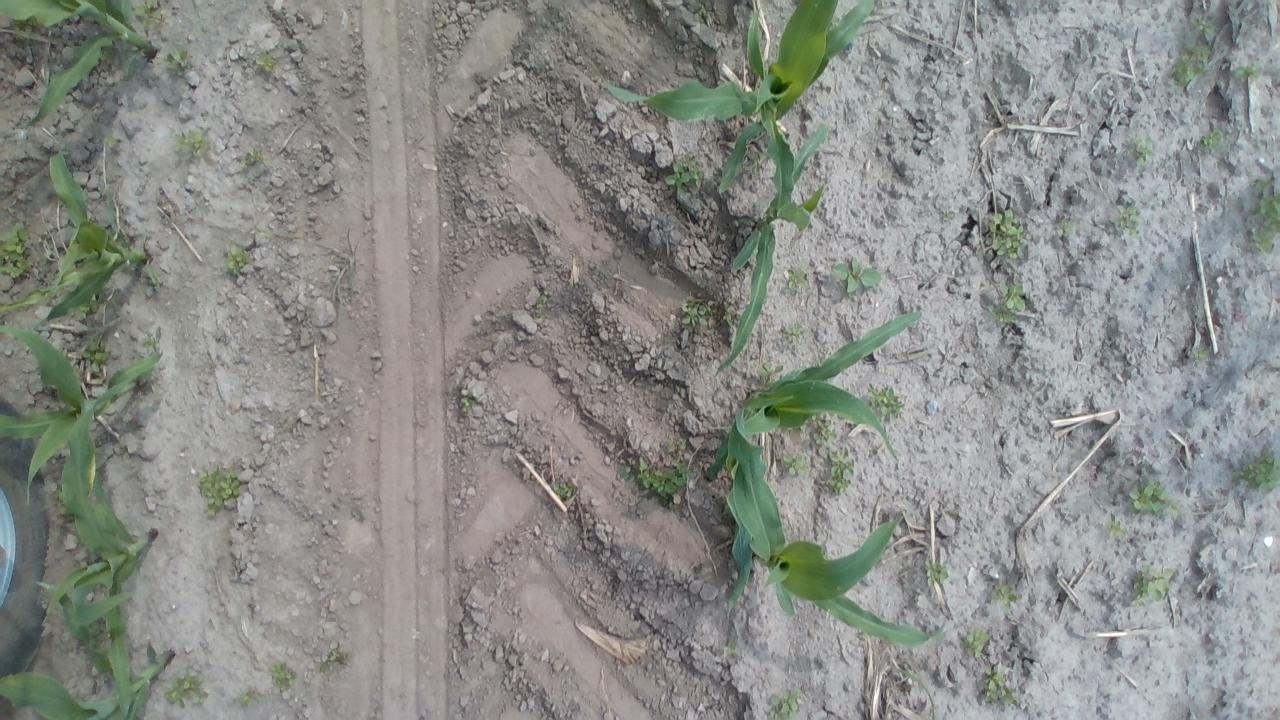Maize: (702, 312, 922, 615), (726, 390, 947, 651), (588, 0, 876, 197), (715, 91, 833, 375), (42, 446, 160, 720), (0, 144, 163, 328), (4, 327, 164, 509), (0, 579, 177, 720), (0, 2, 158, 132)
Weeds: (627, 456, 694, 505), (198, 464, 248, 517), (1246, 175, 1277, 258), (986, 209, 1028, 262), (1123, 565, 1173, 608), (1126, 479, 1182, 517), (1170, 42, 1212, 91), (983, 281, 1028, 324), (0, 219, 32, 278), (832, 258, 882, 295), (1234, 449, 1276, 493), (662, 152, 706, 194), (163, 672, 210, 707), (826, 447, 856, 497), (982, 670, 1020, 708), (172, 126, 214, 160), (866, 382, 904, 418), (766, 686, 802, 718), (678, 299, 715, 329), (1111, 202, 1141, 238), (221, 246, 253, 279), (132, 0, 166, 31), (963, 624, 993, 658), (80, 342, 110, 374), (992, 580, 1022, 612), (268, 660, 297, 691), (164, 46, 196, 74), (316, 646, 348, 674), (784, 264, 812, 294), (1130, 138, 1156, 170), (1190, 9, 1218, 38), (236, 146, 266, 172), (924, 557, 950, 586), (1234, 61, 1265, 84), (1196, 127, 1224, 152), (752, 362, 782, 385), (251, 52, 282, 74), (76, 296, 100, 324), (781, 318, 806, 344), (781, 454, 808, 478), (812, 419, 836, 446), (1106, 518, 1128, 544), (554, 480, 577, 504), (1054, 216, 1076, 240), (532, 290, 550, 318), (143, 266, 165, 288), (664, 436, 688, 456), (239, 686, 263, 706), (142, 330, 162, 352), (432, 10, 452, 29), (1189, 347, 1212, 363), (899, 666, 920, 683), (692, 4, 712, 21), (459, 391, 475, 412), (721, 640, 739, 656), (104, 135, 122, 151)
